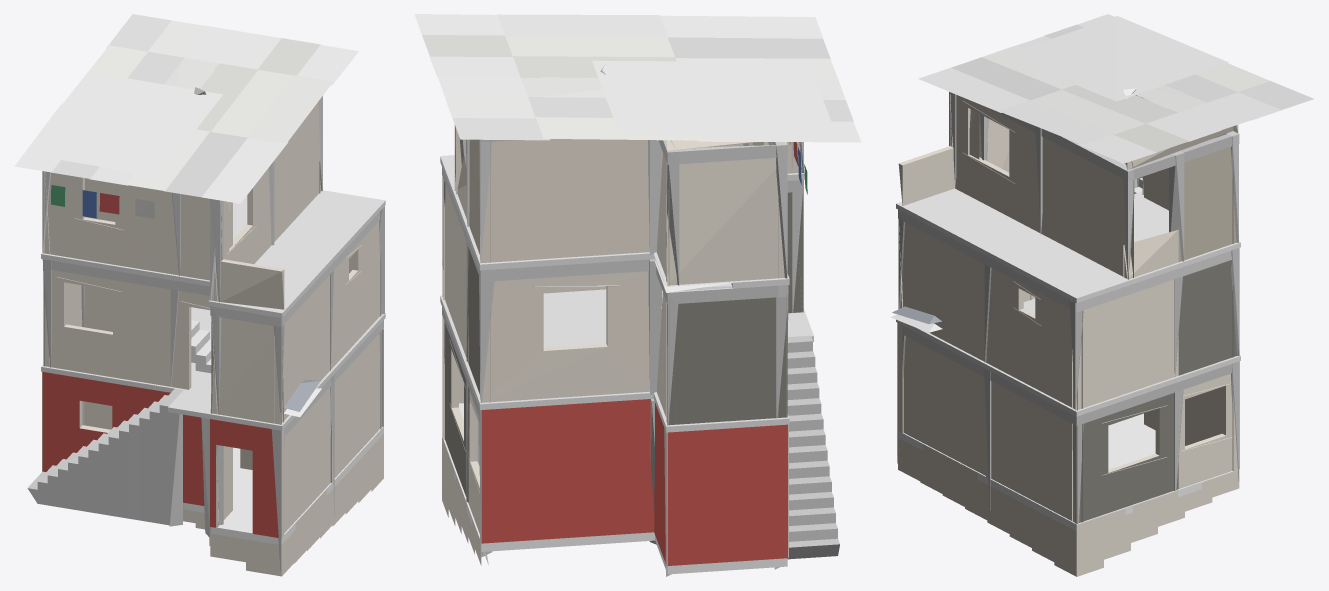
3 renders of one model, left to right at view 1: azimuth 30°, elevation 25°; view 2: azimuth 150°, elevation 25°; view 3: azimuth 270°, elevation 25°, orthographic. The views are drawn at different scales.
Parts seen in each view (by area): view 1: T_29_26; view 2: T_29_26; view 3: T_29_26.
Part boxes in pixels (box(x1,y1,x2,y2)): T_29_26: box(14, 14, 385, 576); T_29_26: box(414, 14, 861, 576); T_29_26: box(890, 14, 1313, 576).
Bounding box in the file's own units: 9.41 × 10.38 × 9.66.
